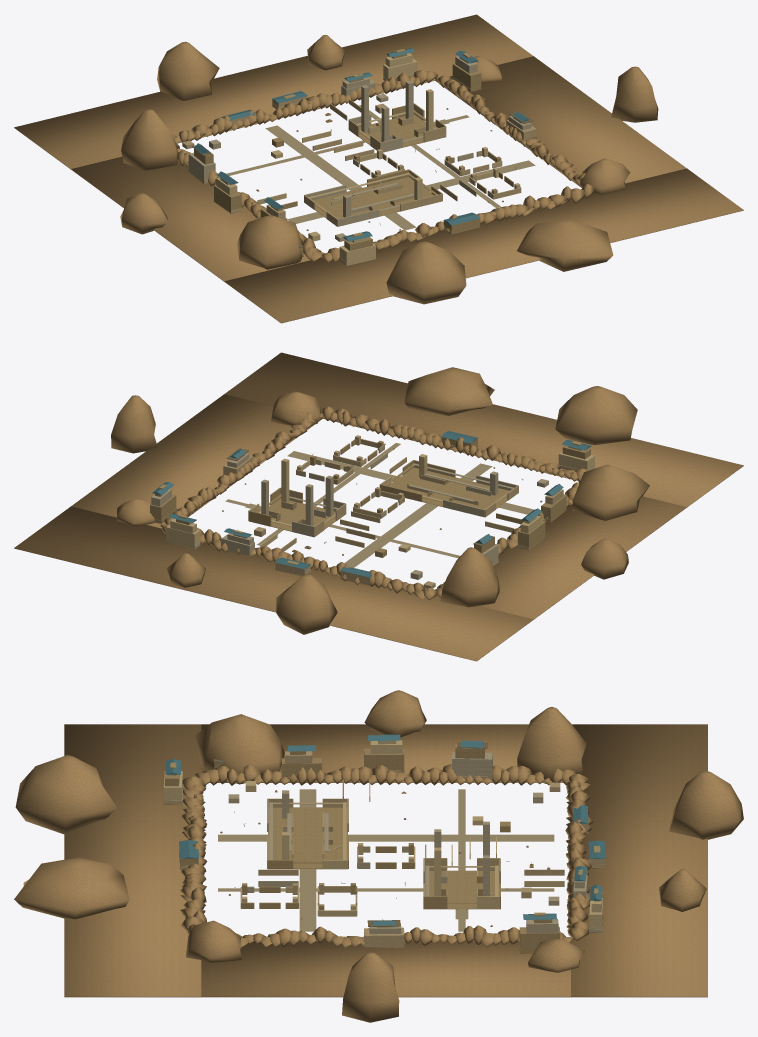
The model's file is sakyuu-lod2.glb.
3 views of the same model, one above another, from view 1: azimuth 30°, elevation 25°; view 2: azimuth 150°, elevation 25°; view 3: azimuth 270°, elevation 25° (orthographic). The views are drawn at different scales.
Parts seen in each view (by area): view 1: HB_sakyuu_LOD2_terrain, HB_sakyuu_LOD2_road, HB_sakyuu_LOD2_wall, HB_sakyuu_LOD2_wall_weathered, HB_sakyuu_LOD2_LANDMARK_0_wall_weathered, HB_sakyuu_LOD2_wall_warm, HB_sakyuu_LOD2_wall_cool, HB_sakyuu_LOD2_roof, HB_sakyuu_LOD2_LANDMARK_1_wall_cool, HB_sakyuu_LOD2_LANDMARK_0_wall_cool, HB_sakyuu_LOD2_LANDMARK_1_wall_weathered, HB_sakyuu_LOD2_LANDMARK_0_wall_warm (+3 smaller); view 2: HB_sakyuu_LOD2_terrain, HB_sakyuu_LOD2_road, HB_sakyuu_LOD2_wall, HB_sakyuu_LOD2_wall_weathered, HB_sakyuu_LOD2_LANDMARK_0_wall_weathered, HB_sakyuu_LOD2_wall_warm, HB_sakyuu_LOD2_wall_cool, HB_sakyuu_LOD2_roof, HB_sakyuu_LOD2_LANDMARK_1_wall_cool, HB_sakyuu_LOD2_LANDMARK_0_wall_cool, HB_sakyuu_LOD2_LANDMARK_1_wall_weathered, HB_sakyuu_LOD2_LANDMARK_0_wall_warm (+2 smaller); view 3: HB_sakyuu_LOD2_terrain, HB_sakyuu_LOD2_road, HB_sakyuu_LOD2_wall_weathered, HB_sakyuu_LOD2_LANDMARK_0_wall_weathered, HB_sakyuu_LOD2_wall_warm, HB_sakyuu_LOD2_wall_cool, HB_sakyuu_LOD2_wall, HB_sakyuu_LOD2_roof, HB_sakyuu_LOD2_LANDMARK_1_wall_weathered, HB_sakyuu_LOD2_LANDMARK_1_wall_cool, HB_sakyuu_LOD2_LANDMARK_0_wall_cool, HB_sakyuu_LOD2_LANDMARK_1_wall (+2 smaller).
Boxes of the visible parts, bbox=[...] form: HB_sakyuu_LOD2_terrain: bbox=[14, 14, 743, 323]; HB_sakyuu_LOD2_road: bbox=[226, 105, 535, 230]; HB_sakyuu_LOD2_wall: bbox=[216, 53, 520, 265]; HB_sakyuu_LOD2_wall_weathered: bbox=[194, 54, 536, 256]; HB_sakyuu_LOD2_LANDMARK_0_wall_weathered: bbox=[313, 169, 442, 218]; HB_sakyuu_LOD2_wall_warm: bbox=[182, 90, 536, 265]; HB_sakyuu_LOD2_wall_cool: bbox=[188, 56, 531, 241]; HB_sakyuu_LOD2_roof: bbox=[194, 48, 529, 244]; HB_sakyuu_LOD2_LANDMARK_1_wall_cool: bbox=[349, 80, 423, 152]; HB_sakyuu_LOD2_LANDMARK_0_wall_cool: bbox=[305, 181, 414, 226]; HB_sakyuu_LOD2_LANDMARK_1_wall_weathered: bbox=[359, 103, 446, 147]; HB_sakyuu_LOD2_LANDMARK_0_wall_warm: bbox=[304, 183, 442, 226]; HB_sakyuu_LOD2_terrain: bbox=[14, 352, 743, 661]; HB_sakyuu_LOD2_road: bbox=[225, 443, 533, 567]; HB_sakyuu_LOD2_wall: bbox=[166, 435, 594, 552]; HB_sakyuu_LOD2_wall_weathered: bbox=[150, 437, 590, 585]; HB_sakyuu_LOD2_LANDMARK_0_wall_weathered: bbox=[380, 460, 509, 509]; HB_sakyuu_LOD2_wall_warm: bbox=[221, 438, 594, 588]; HB_sakyuu_LOD2_wall_cool: bbox=[151, 444, 548, 579]; HB_sakyuu_LOD2_roof: bbox=[152, 431, 591, 577]; HB_sakyuu_LOD2_LANDMARK_1_wall_cool: bbox=[261, 475, 345, 537]; HB_sakyuu_LOD2_LANDMARK_0_wall_cool: bbox=[408, 463, 518, 517]; HB_sakyuu_LOD2_LANDMARK_1_wall_weathered: bbox=[248, 487, 335, 531]; HB_sakyuu_LOD2_LANDMARK_0_wall_warm: bbox=[407, 460, 518, 517]; HB_sakyuu_LOD2_terrain: bbox=[14, 690, 743, 1022]; HB_sakyuu_LOD2_road: bbox=[218, 789, 554, 931]; HB_sakyuu_LOD2_wall_weathered: bbox=[165, 743, 599, 952]; HB_sakyuu_LOD2_LANDMARK_0_wall_weathered: bbox=[268, 807, 348, 869]; HB_sakyuu_LOD2_wall_warm: bbox=[164, 751, 604, 947]; HB_sakyuu_LOD2_wall_cool: bbox=[228, 752, 601, 934]; HB_sakyuu_LOD2_wall: bbox=[164, 740, 602, 931]; HB_sakyuu_LOD2_roof: bbox=[165, 734, 605, 926]; HB_sakyuu_LOD2_LANDMARK_1_wall_weathered: bbox=[424, 870, 500, 909]; HB_sakyuu_LOD2_LANDMARK_1_wall_cool: bbox=[423, 821, 500, 896]; HB_sakyuu_LOD2_LANDMARK_0_wall_cool: bbox=[267, 790, 348, 859]; HB_sakyuu_LOD2_LANDMARK_1_wall: bbox=[434, 847, 499, 909].
Size of the model in its own units: 691 by 61.37 by 692.
13 materials, 12 textured.
